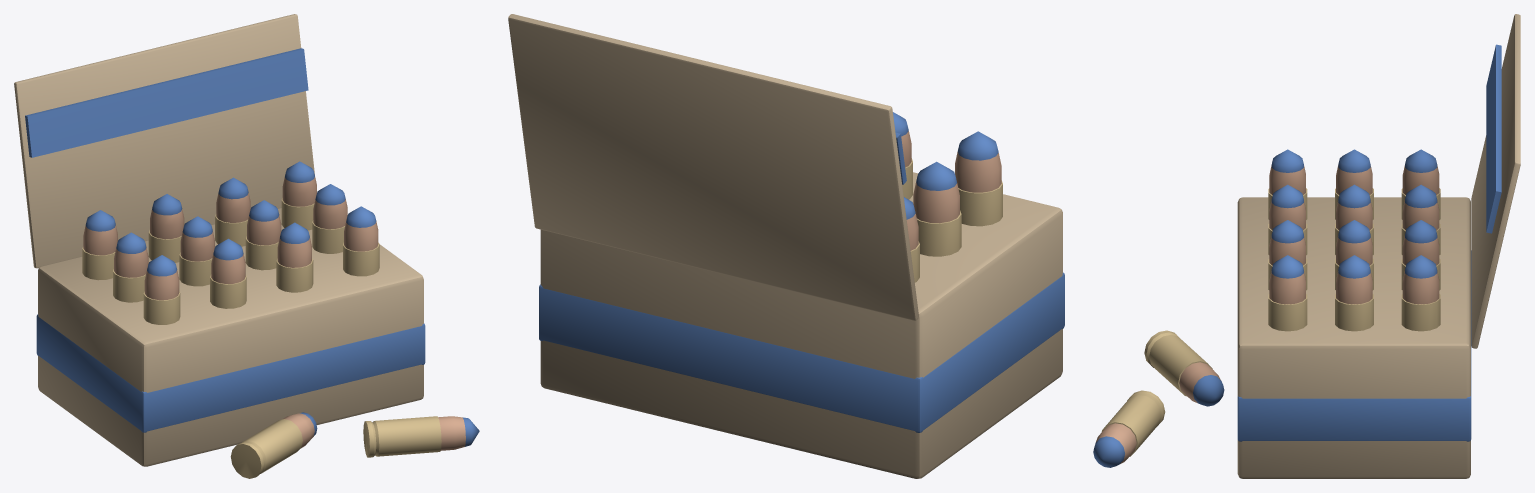
Rendered from pistol-ammo-hv.glb.
3 renders of one model, left to right at view 1: azimuth 30°, elevation 25°; view 2: azimuth 150°, elevation 25°; view 3: azimuth 270°, elevation 25°, orthographic. The views are drawn at different scales.
Parts seen in each view (by area): view 1: Body_lod0; view 2: Body_lod0; view 3: Body_lod0.
Boxes of the visible parts, bbox=[...] form: Body_lod0: bbox=[14, 14, 479, 478]; Body_lod0: bbox=[508, 14, 1064, 478]; Body_lod0: bbox=[1093, 14, 1520, 478].
Size of what is drawn, in the model's own units: 0.0852 by 0.0842 by 0.1026.
